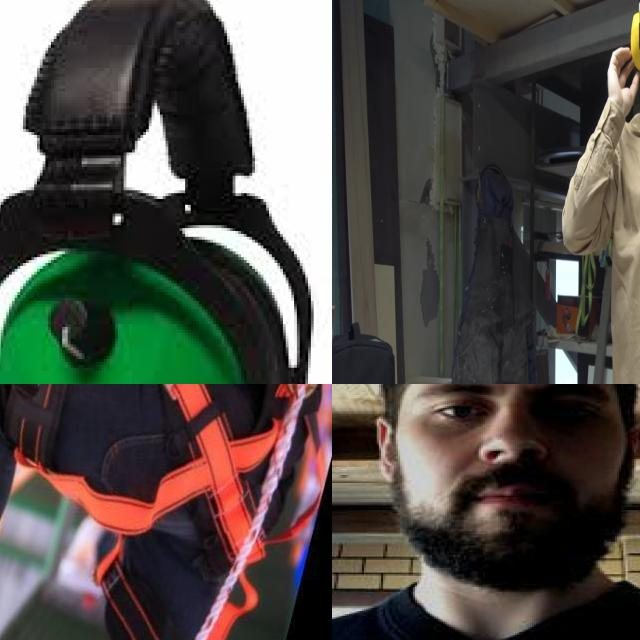Ear-protection: (0, 239, 257, 384)
Harness: (16, 384, 320, 560)
face_nomask: (404, 384, 623, 587)
person: (332, 384, 640, 640)
